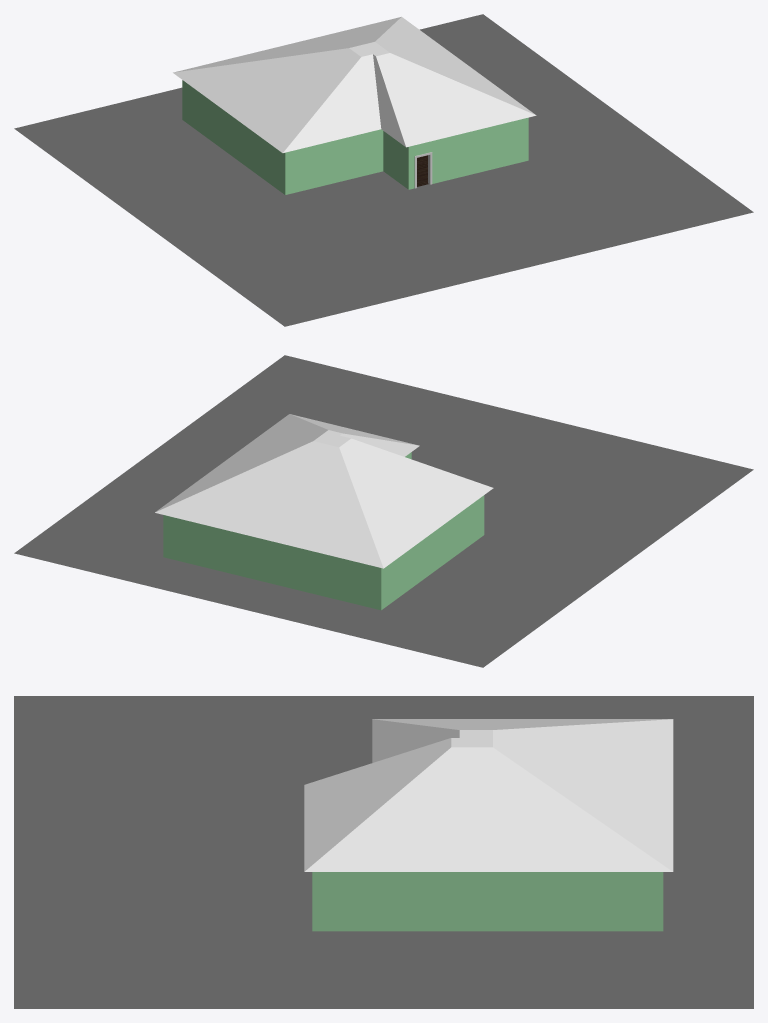
Rendered from Interior.glb.
3 renders of one model, top to bottom at view 1: azimuth 30°, elevation 25°; view 2: azimuth 150°, elevation 25°; view 3: azimuth 270°, elevation 25°, orthographic. The views are drawn at different scales.
Visible parts, largest first — view 1: Floor.Deceiving, Ceiling, Joined; view 2: Floor.Deceiving, Ceiling, Joined; view 3: Floor.Deceiving, Ceiling, Joined.
Part boxes in pixels (x1,y1,x2,y2): Floor.Deceiving: (14, 14, 753, 326); Ceiling: (173, 16, 536, 152); Joined: (182, 80, 611, 219); Floor.Deceiving: (14, 355, 753, 667); Ceiling: (155, 414, 493, 568); Joined: (122, 452, 484, 610); Floor.Deceiving: (14, 696, 753, 1008); Ceiling: (304, 719, 673, 871); Joined: (199, 852, 663, 959).
Size of the model in its own units: 32.06 by 6.23 by 32.06.
19 materials, 3 textured.
